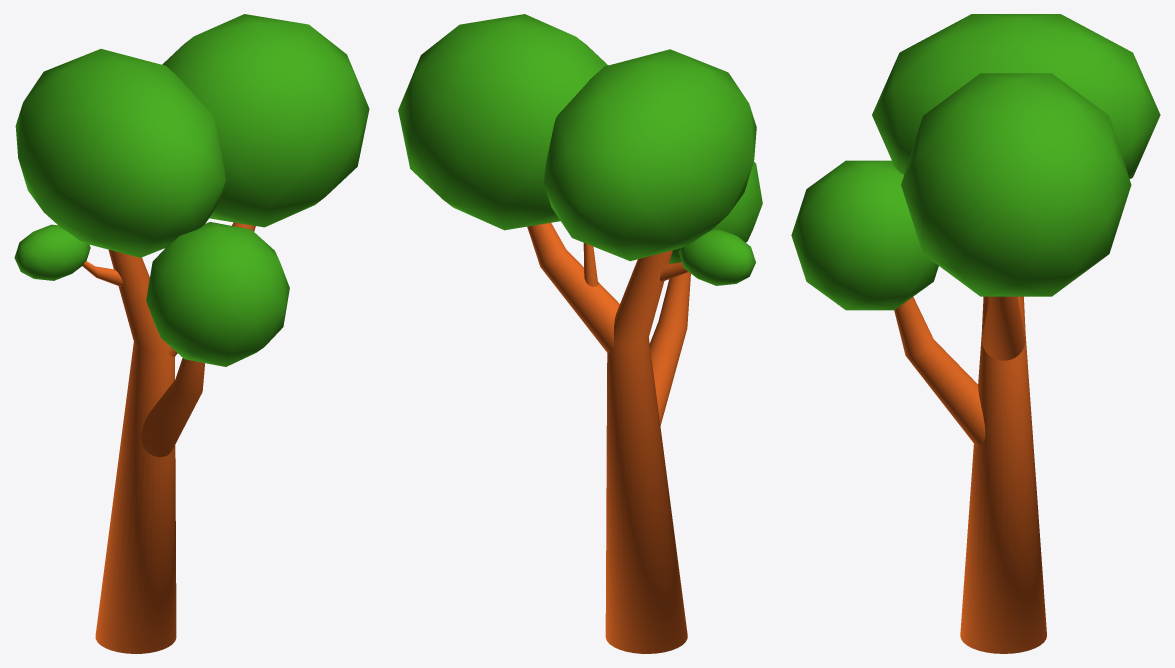
File: BigTree.glb
3 views of the same model, side by side, from view 1: azimuth 30°, elevation 25°; view 2: azimuth 150°, elevation 25°; view 3: azimuth 270°, elevation 25° (orthographic). The views are drawn at different scales.
Parts seen in each view (by area): view 1: Icosphere, Icosphere.001, Cylinder, Icosphere.002, Icosphere.003; view 2: Icosphere, Cylinder, Icosphere.001, Icosphere.003, Icosphere.002; view 3: Icosphere.001, Cylinder, Icosphere, Icosphere.002.
Boxes of the visible parts, left/top/right/bottom form: Icosphere: left=15, top=49, right=225, bottom=257; Icosphere.001: left=162, top=14, right=369, bottom=227; Cylinder: left=82, top=222, right=255, bottom=653; Icosphere.002: left=146, top=222, right=289, bottom=366; Icosphere.003: left=14, top=224, right=90, bottom=280; Icosphere: left=544, top=49, right=756, bottom=261; Cylinder: left=527, top=222, right=690, bottom=653; Icosphere.001: left=398, top=14, right=608, bottom=230; Icosphere.003: left=678, top=229, right=755, bottom=285; Icosphere.002: left=669, top=162, right=762, bottom=263; Icosphere.001: left=901, top=73, right=1131, bottom=296; Cylinder: left=894, top=296, right=1046, bottom=653; Icosphere: left=872, top=14, right=1160, bottom=178; Icosphere.002: left=791, top=160, right=938, bottom=310.
Bounding box in the file's own units: 4.08 × 6.77 × 3.66.
